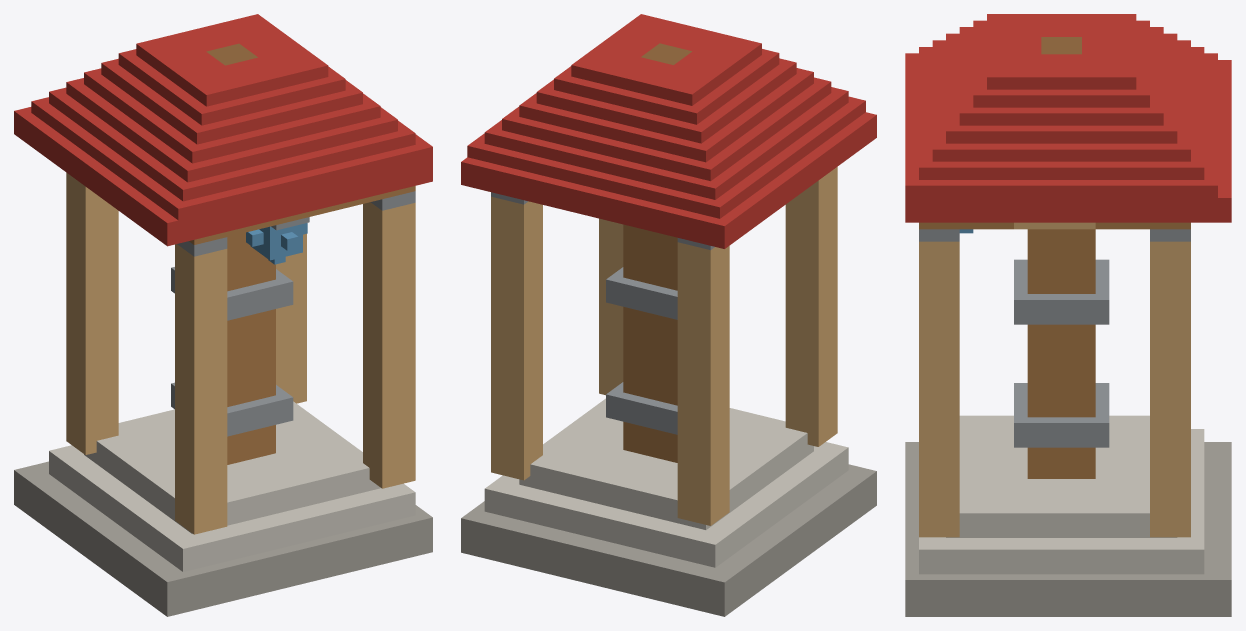
The model's file is hearthvale_furniture_market_cross.obj.
3 renders of one model, left to right at view 1: azimuth 30°, elevation 25°; view 2: azimuth 150°, elevation 25°; view 3: azimuth 270°, elevation 25°, orthographic. The views are drawn at different scales.
Visible parts, largest first — view 1: palette_18, palette_3, palette_8, palette_7, palette_2, palette_5, palette_10, palette_15; view 2: palette_18, palette_3, palette_8, palette_7, palette_2, palette_5, palette_15; view 3: palette_18, palette_8, palette_3, palette_7, palette_2, palette_5, palette_15.
Boxes of the visible parts, box(x1,y1,x2,y2) form: palette_18: box(14, 14, 432, 246); palette_3: box(66, 172, 415, 534); palette_8: box(49, 401, 415, 571); palette_7: box(14, 461, 432, 616); palette_2: box(189, 186, 415, 464); palette_5: box(171, 191, 415, 436); palette_10: box(246, 223, 307, 264); palette_15: box(206, 43, 257, 65); palette_18: box(461, 14, 876, 248); palette_3: box(491, 167, 837, 525); palette_8: box(484, 398, 848, 567); palette_7: box(461, 464, 876, 616); palette_2: box(623, 224, 677, 462); palette_5: box(491, 192, 714, 434); palette_15: box(641, 43, 691, 64); palette_18: box(905, 14, 1231, 222); palette_8: box(919, 415, 1204, 574); palette_3: box(919, 222, 1190, 537); palette_7: box(905, 442, 1231, 616); palette_2: box(919, 222, 1190, 478); palette_5: box(919, 229, 1190, 447); palette_15: box(1041, 37, 1081, 54).
Size of the model in its own units: 1.5 by 2.56 by 1.5.
